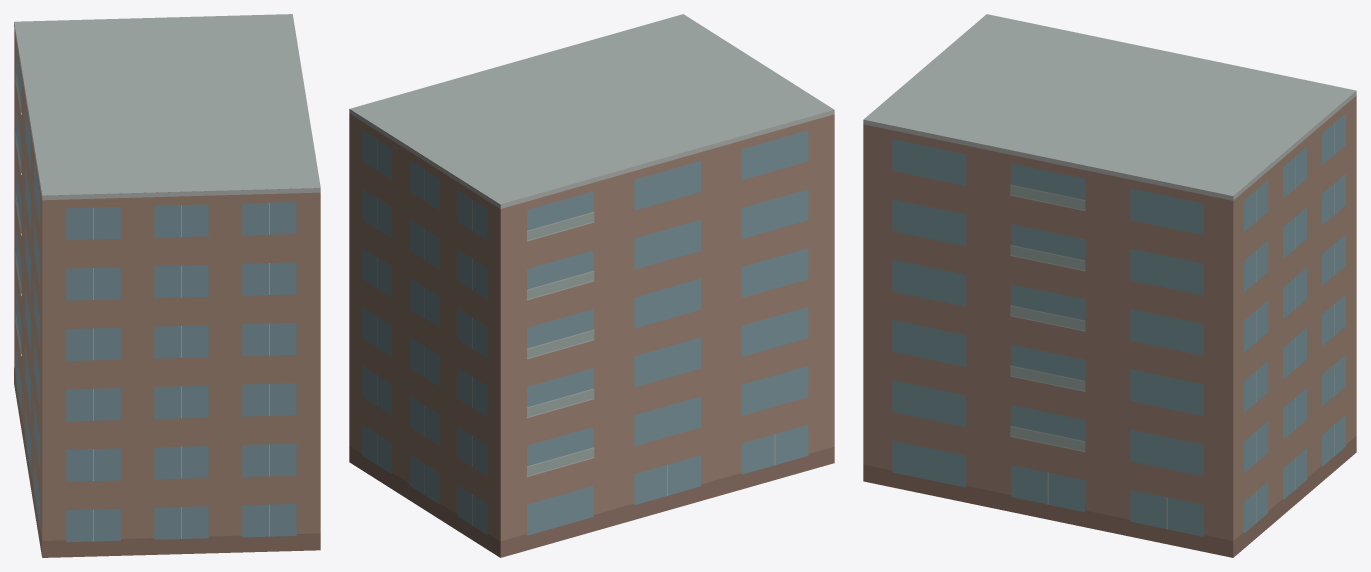
File: survey-upis-32529864.glb
3 renders of one model, left to right at view 1: azimuth 30°, elevation 25°; view 2: azimuth 150°, elevation 25°; view 3: azimuth 270°, elevation 25°, orthographic. The views are drawn at different scales.
Parts seen in each view (by area): view 1: survey-upis-32529864.tmp; view 2: survey-upis-32529864.tmp; view 3: survey-upis-32529864.tmp.
Part boxes in pixels (box(x1,y1,x2,y2)): survey-upis-32529864.tmp: box(14, 14, 320, 557); survey-upis-32529864.tmp: box(349, 14, 834, 557); survey-upis-32529864.tmp: box(863, 14, 1356, 557).
Bounding box in the file's own units: 20.53 × 19 × 23.49.
